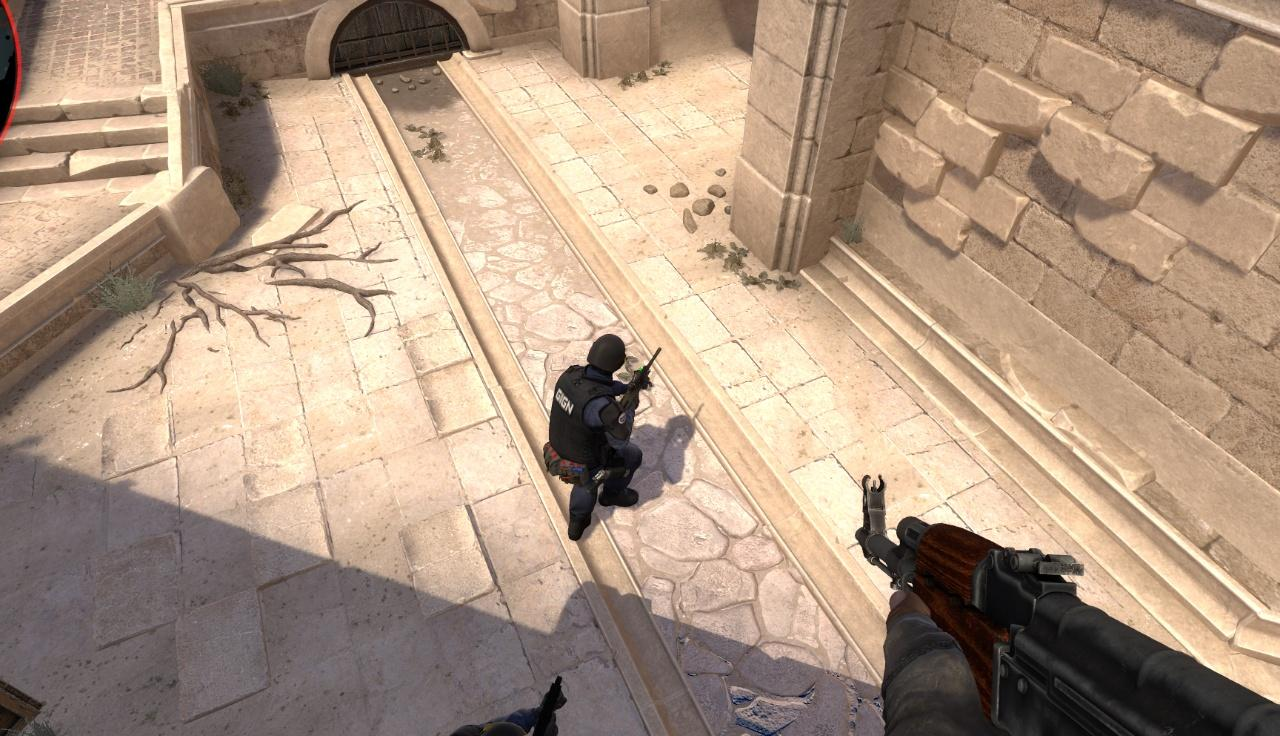ct: (550, 332, 638, 516)
cthead: (589, 333, 624, 372)
rifle: (855, 473, 1280, 736)
